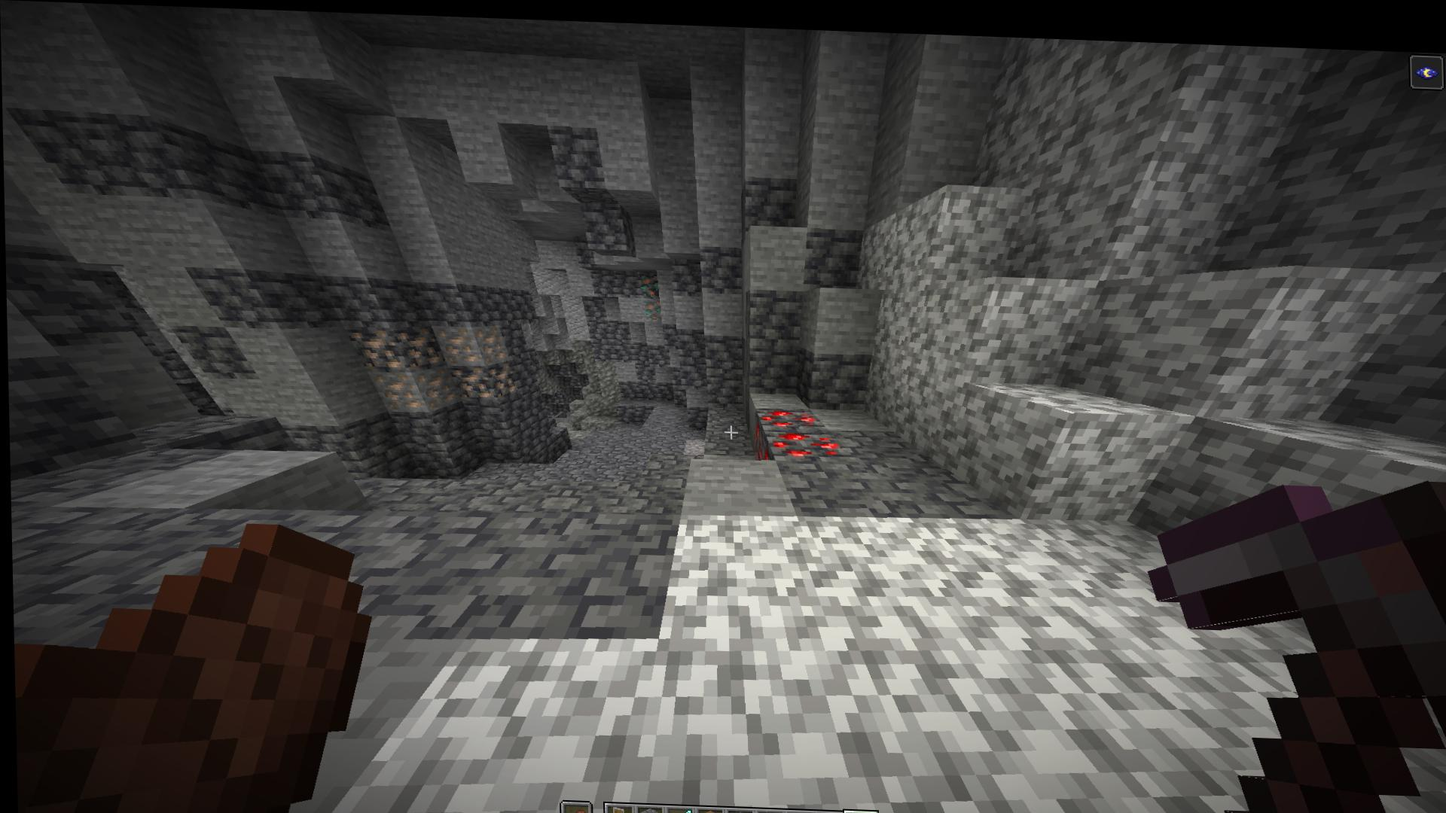iron ore: (351, 319, 437, 367), (368, 362, 452, 411), (450, 358, 516, 403), (441, 318, 505, 363)
redstone ore: (750, 402, 843, 459)
